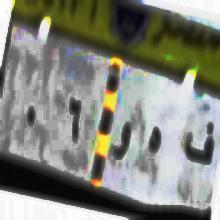0: (15, 93, 44, 139)
6: (61, 92, 89, 150)
faa: (180, 120, 216, 165)
haa: (146, 120, 162, 165)
waw: (111, 114, 137, 173)
